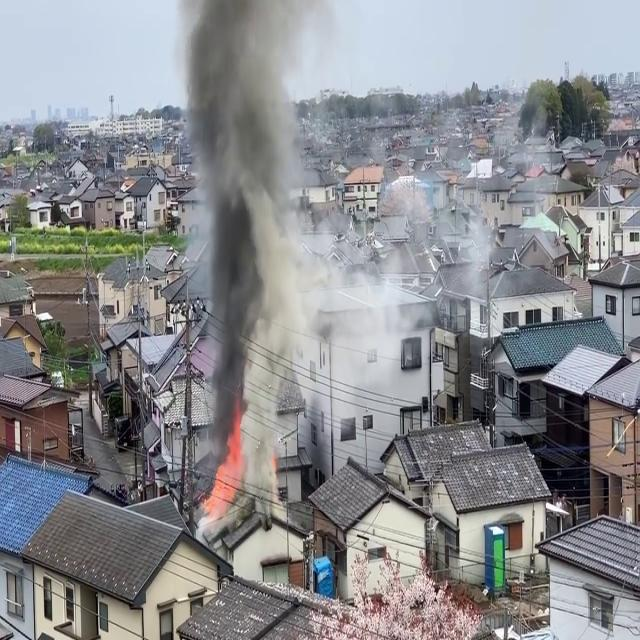Fire: (202, 416, 246, 521)
Smoke: (178, 0, 322, 492)
